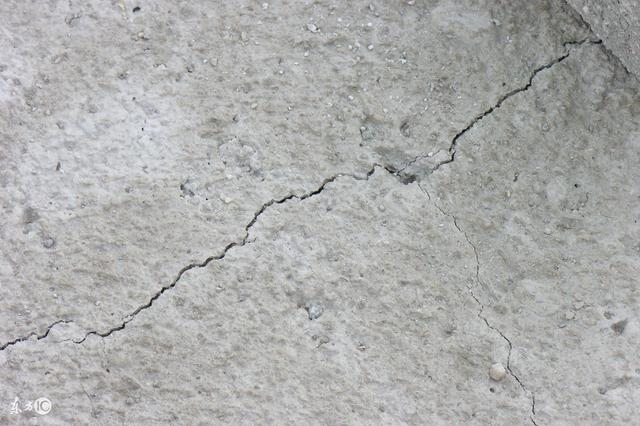crack: (191, 158, 385, 281)
